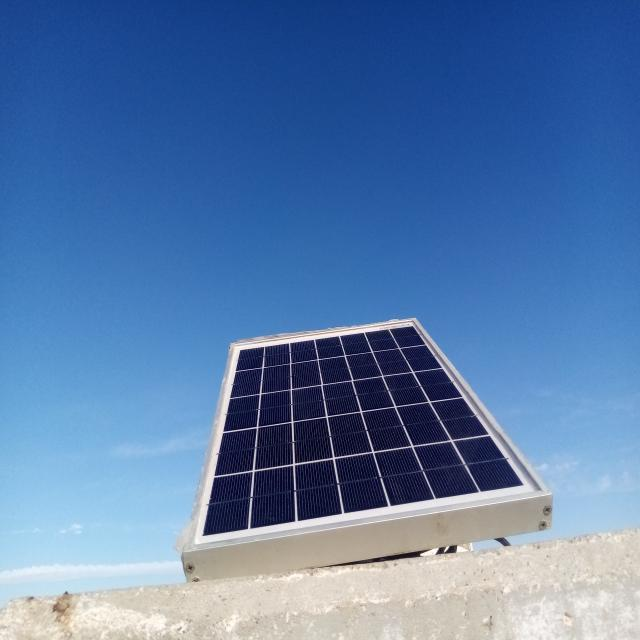Normal Solar Panel: (184, 319, 547, 555)
